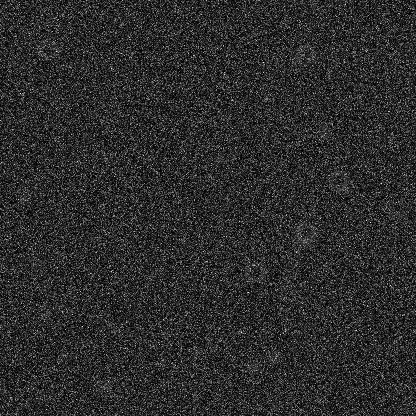Ring: (292, 42, 316, 66), (35, 37, 59, 61), (354, 84, 378, 108), (216, 118, 240, 142), (242, 260, 266, 284), (139, 75, 163, 99), (293, 220, 317, 244), (17, 249, 41, 273), (276, 279, 300, 303), (326, 168, 350, 192)
Spot: (295, 234, 311, 250), (94, 378, 110, 394), (245, 360, 261, 376), (389, 207, 405, 223), (35, 303, 51, 319), (99, 151, 115, 167), (257, 88, 273, 104), (265, 348, 281, 364), (369, 343, 385, 359), (317, 124, 333, 140), (209, 151, 225, 167), (14, 191, 30, 207), (255, 61, 271, 77)
